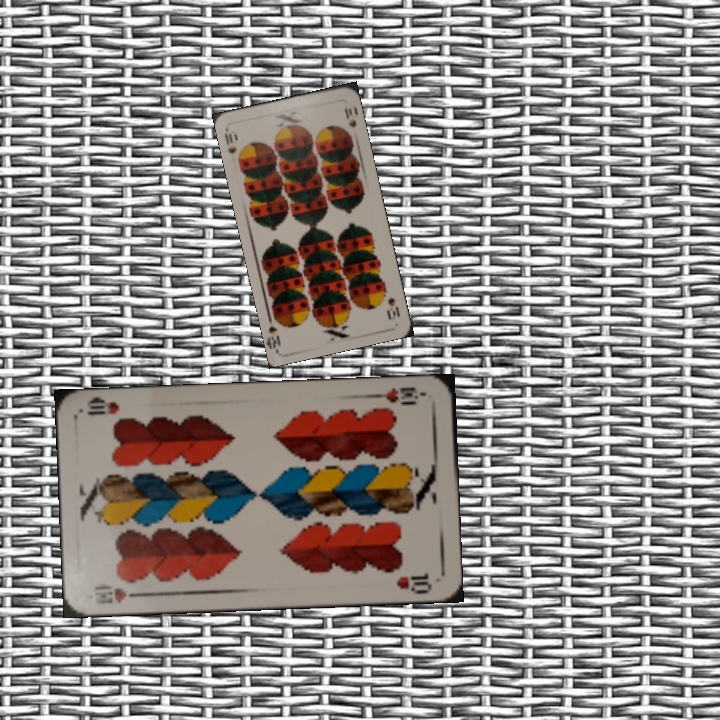H10: (369, 382, 429, 408), (90, 581, 146, 607)
S10: (220, 126, 245, 165), (383, 293, 402, 323)
